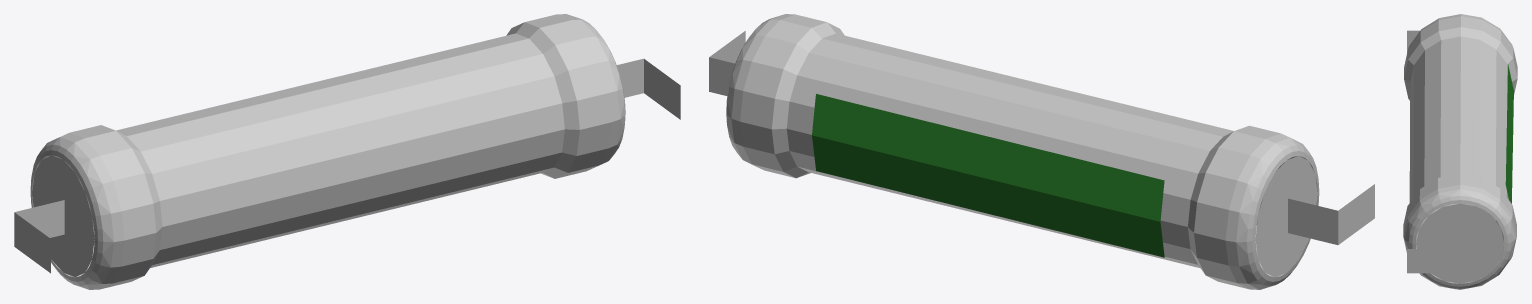
The picture shows the model from 3 angles, left to right: view 1: azimuth 30°, elevation 25°; view 2: azimuth 150°, elevation 25°; view 3: azimuth 270°, elevation 25°; orthographic projection. The views are drawn at different scales.
Visible parts, largest first — view 1: ShapeIndexedFaceSet_ShapeIndexedFaceSet.001, ShapeIndexedFaceSet.003_ShapeIndexedFaceSet, ShapeIndexedFaceSet.002_ShapeIndexedFaceSet.003; view 2: ShapeIndexedFaceSet_ShapeIndexedFaceSet.001, ShapeIndexedFaceSet.001_ShapeIndexedFaceSet.002, ShapeIndexedFaceSet.003_ShapeIndexedFaceSet, ShapeIndexedFaceSet.002_ShapeIndexedFaceSet.003; view 3: ShapeIndexedFaceSet_ShapeIndexedFaceSet.001, ShapeIndexedFaceSet.002_ShapeIndexedFaceSet.003, ShapeIndexedFaceSet.001_ShapeIndexedFaceSet.002, ShapeIndexedFaceSet.003_ShapeIndexedFaceSet.
Boxes of the visible parts, bbox=[...] form: ShapeIndexedFaceSet_ShapeIndexedFaceSet.001: bbox=[30, 14, 625, 289]; ShapeIndexedFaceSet.003_ShapeIndexedFaceSet: bbox=[14, 196, 93, 273]; ShapeIndexedFaceSet.002_ShapeIndexedFaceSet.003: bbox=[617, 58, 680, 119]; ShapeIndexedFaceSet_ShapeIndexedFaceSet.001: bbox=[726, 14, 1319, 289]; ShapeIndexedFaceSet.001_ShapeIndexedFaceSet.002: bbox=[812, 94, 1164, 257]; ShapeIndexedFaceSet.003_ShapeIndexedFaceSet: bbox=[1256, 184, 1374, 244]; ShapeIndexedFaceSet.002_ShapeIndexedFaceSet.003: bbox=[709, 31, 745, 95]; ShapeIndexedFaceSet_ShapeIndexedFaceSet.001: bbox=[1403, 14, 1517, 289]; ShapeIndexedFaceSet.002_ShapeIndexedFaceSet.003: bbox=[1407, 249, 1458, 273]; ShapeIndexedFaceSet.001_ShapeIndexedFaceSet.002: bbox=[1505, 64, 1513, 203]; ShapeIndexedFaceSet.003_ShapeIndexedFaceSet: bbox=[1407, 30, 1419, 52].
Size of the model in its own units: 7.62 by 1.68 by 1.69.
